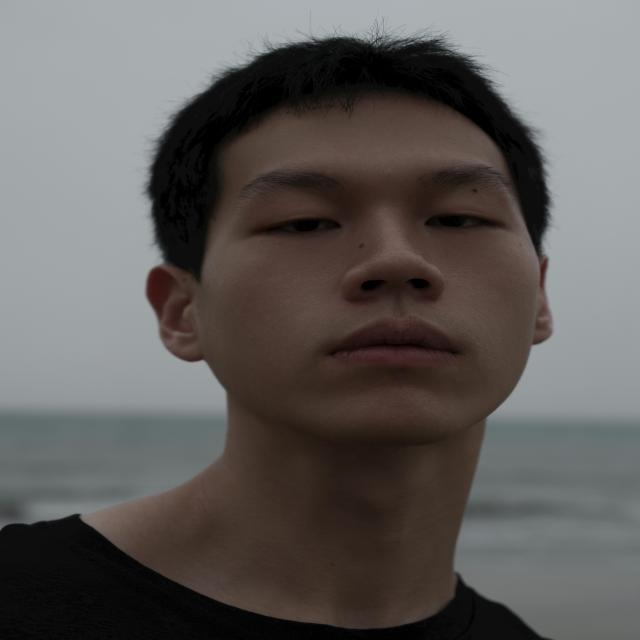human: (0, 33, 573, 640)
